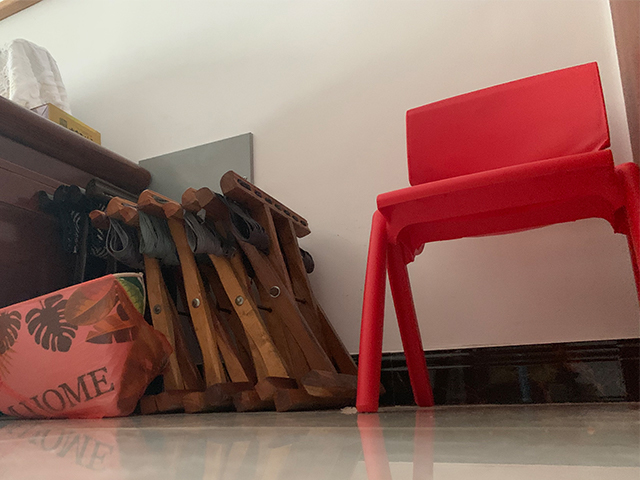stool: (355, 60, 640, 413), (89, 167, 386, 414)
